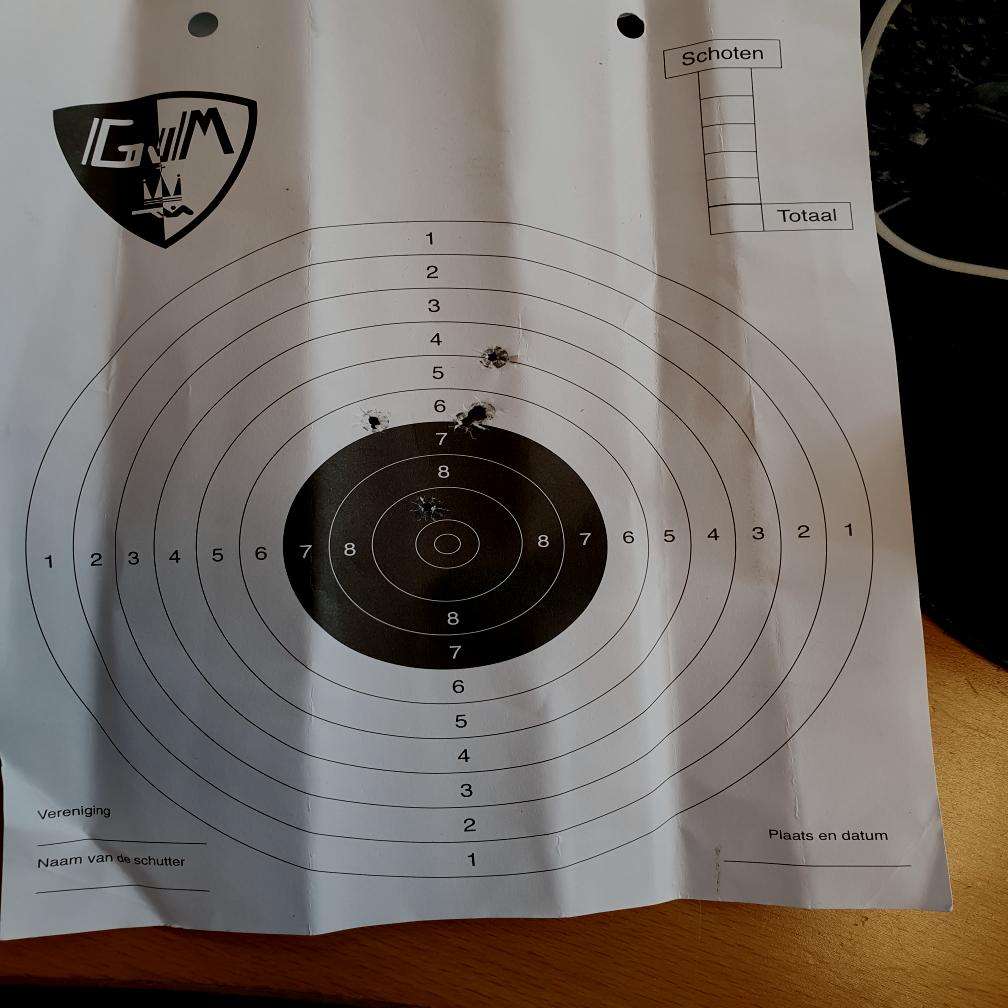5: (479, 346, 515, 372)
6: (468, 398, 501, 424)
7: (359, 411, 393, 435), (452, 414, 482, 436)
9: (408, 497, 446, 521)
Target: (23, 219, 875, 879)
black_contour: (282, 421, 610, 667)
